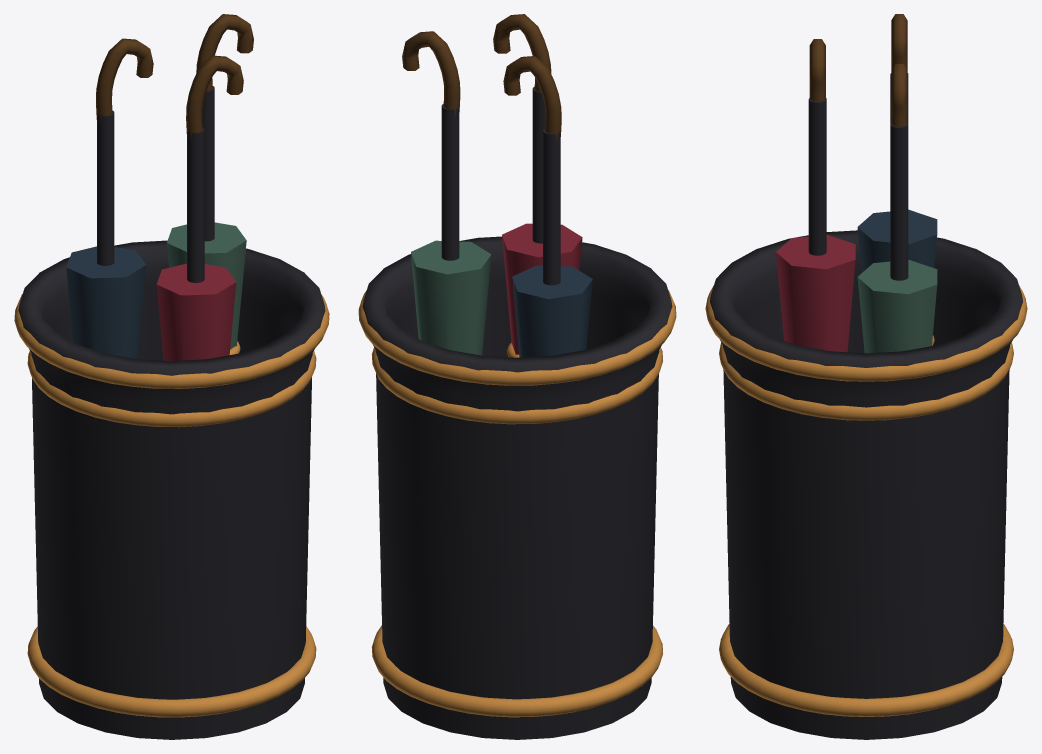
The model's file is mia-umbrella_stand.glb.
The picture shows the model from 3 angles, left to right: view 1: azimuth 30°, elevation 25°; view 2: azimuth 150°, elevation 25°; view 3: azimuth 270°, elevation 25°; orthographic projection. The views are drawn at different scales.
Parts seen in each view (by area): view 1: Body_iron, Body_brass, Body_navy-seat, Body_velvet, Body_wood, Body_sage; view 2: Body_iron, Body_brass, Body_sage, Body_navy-seat, Body_wood, Body_velvet; view 3: Body_iron, Body_brass, Body_velvet, Body_sage, Body_navy-seat, Body_wood.
Boxes of the visible parts, box(x1,y1,x2,y2) form: Body_iron: box(18, 86, 325, 739); Body_brass: box(14, 294, 329, 717); Body_navy-seat: box(66, 246, 146, 359); Body_velvet: box(156, 263, 236, 361); Body_wood: box(96, 14, 253, 140); Body_sage: box(167, 222, 246, 349); Body_iron: box(362, 86, 672, 739); Body_brass: box(358, 290, 676, 717); Body_sage: box(411, 240, 491, 355); Body_navy-seat: box(512, 265, 592, 357); Body_wood: box(402, 14, 561, 141); Body_velvet: box(502, 223, 582, 354); Body_iron: box(710, 73, 1022, 739); Body_brass: box(705, 285, 1027, 716); Body_velvet: box(776, 234, 855, 352); Body_sage: box(857, 259, 937, 353); Body_navy-seat: box(857, 209, 937, 272); Body_wood: box(809, 14, 907, 126).
Size of the model in its own units: 0.43 by 0.9734 by 0.43.
